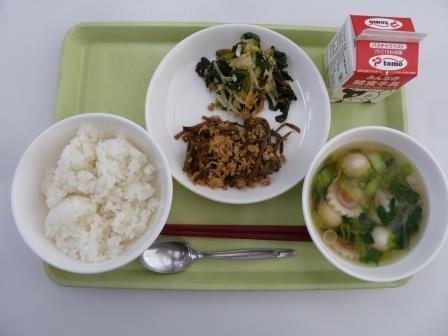Milk: (317, 6, 428, 107)
Rice: (6, 108, 167, 274)
Soups: (311, 131, 444, 282)
cooked food based on meat: (174, 116, 300, 190)
salad fresh: (196, 32, 298, 123)
